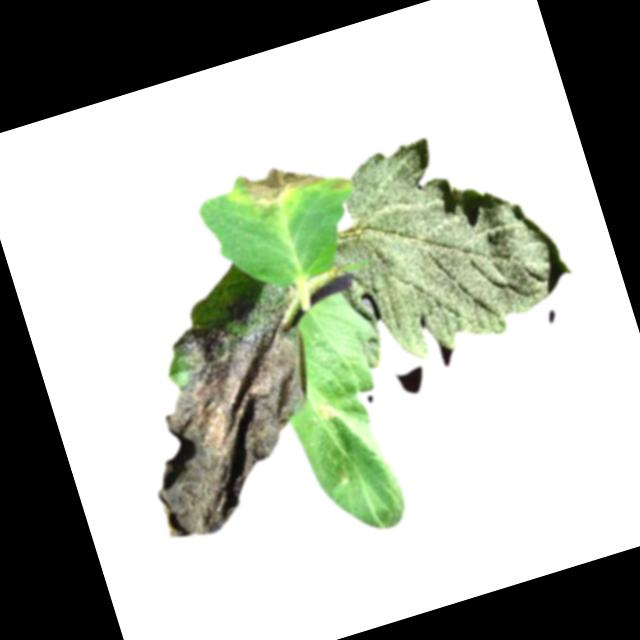Late_blight: (108, 279, 353, 548), (237, 149, 334, 214), (315, 399, 344, 428)
